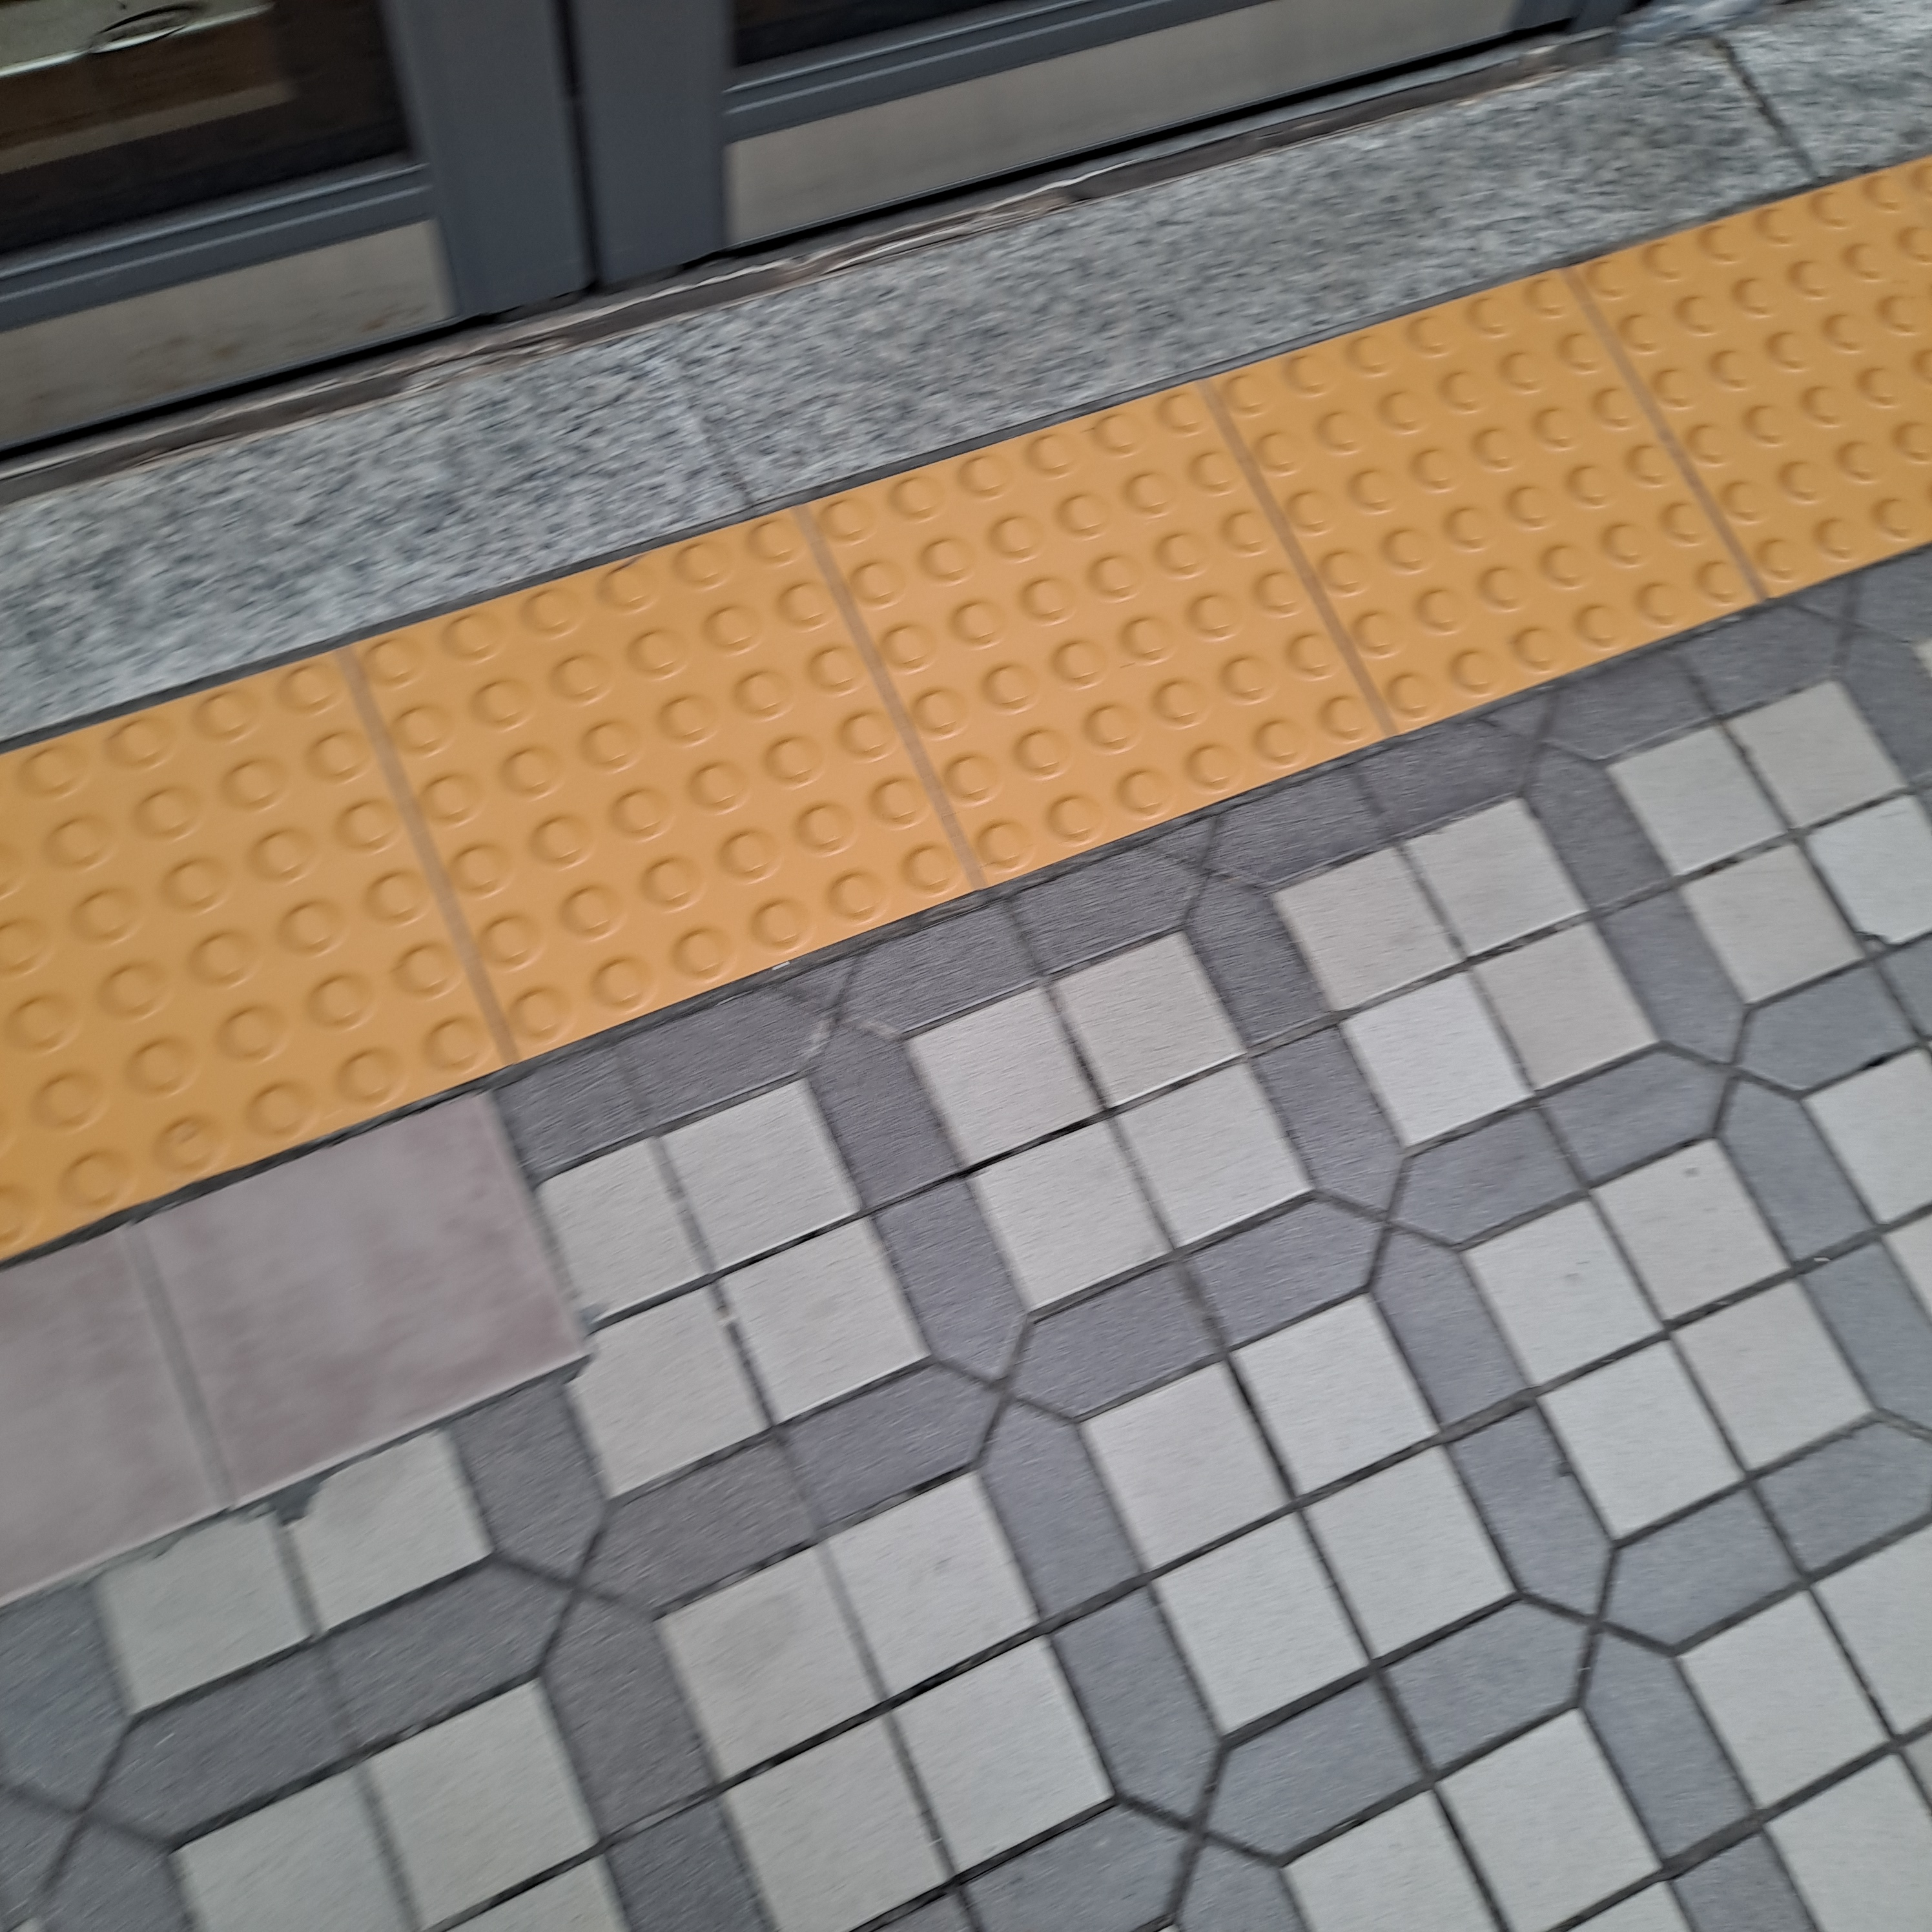warningBlock: (345, 556, 939, 954), (21, 722, 518, 1146), (837, 433, 1355, 771), (1238, 340, 1769, 651), (1637, 228, 1932, 552)
